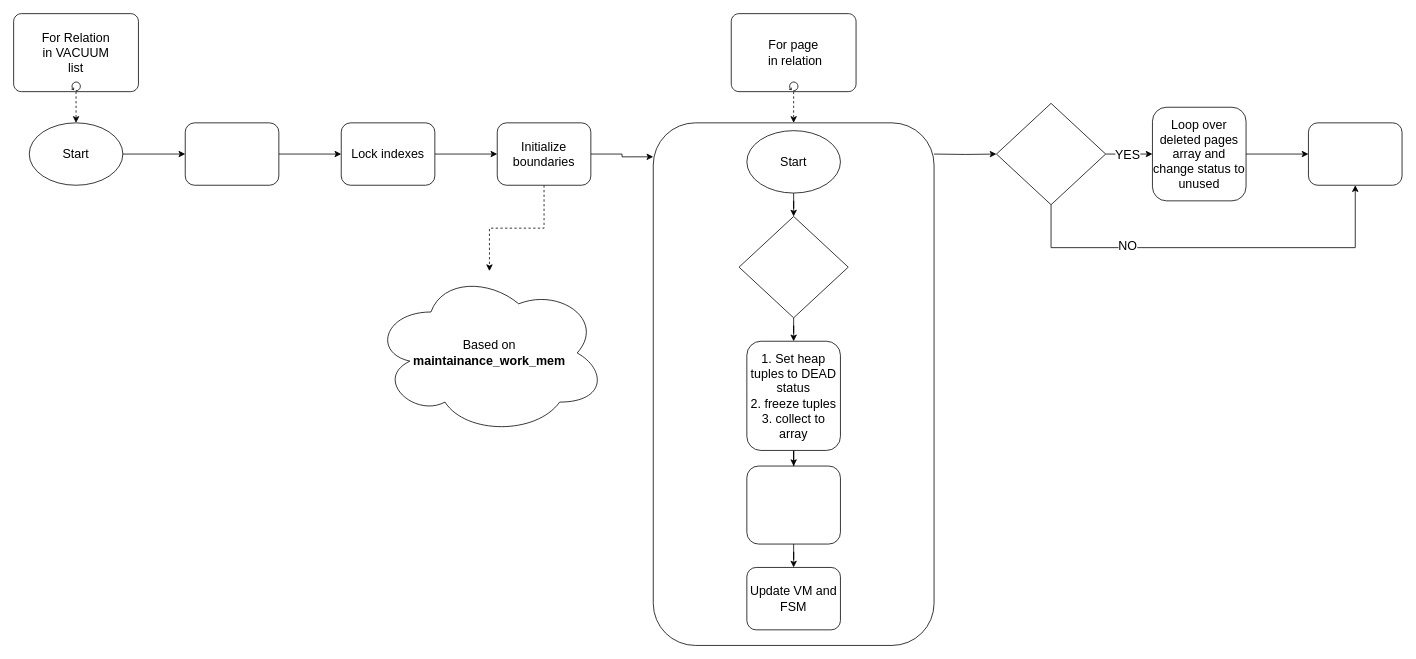
The diagram is 1416 pixels wide and 659 high, and some of its shapes have lost their labels. Here are the shapes that lost their labels. From the top down, the centre of each, then its label:
At [231,153]: "Lock table".
At [1051,154]: "If indexes were vacuumed".
At [1355,153]: "Update statistics".
At [793,267]: "Skip if possible optimization (VM, Index)".
At [793,504]: "VACUUM index tuples that point to the dead tuples (possibly in parallel)".
